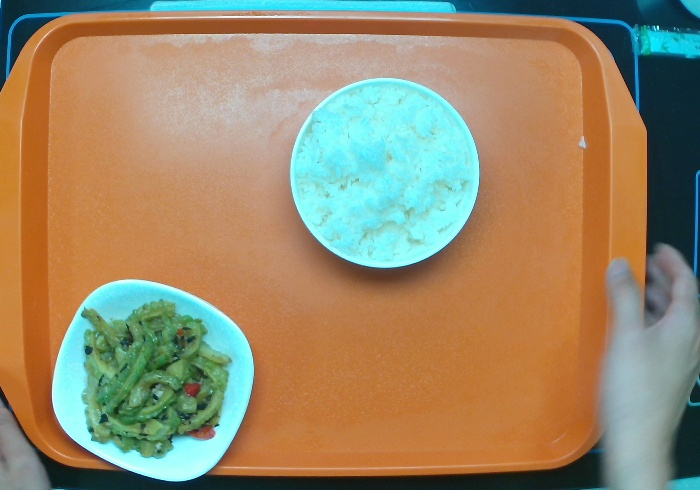ZNLD-Fan_Wan: (288, 75, 480, 269)
ZNLD-Si_Fang_Wan: (50, 277, 255, 483)
